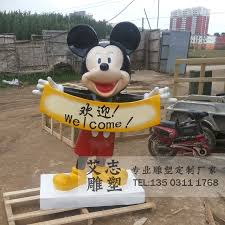Mickey: (66, 20, 141, 96)
